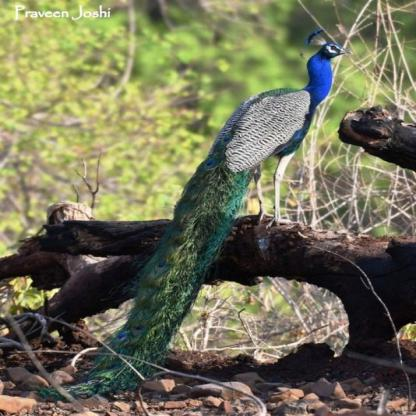Burung: (35, 28, 351, 403)
